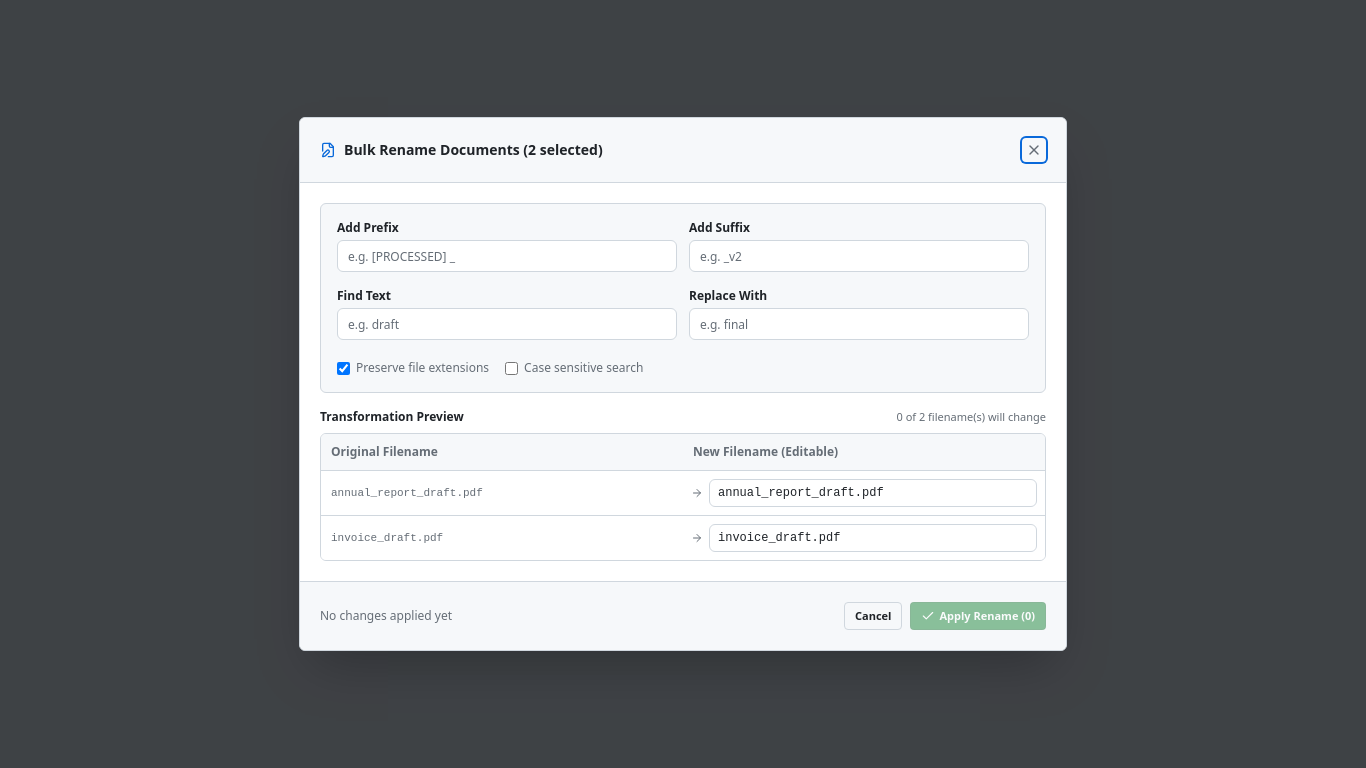
Test: BulkRenameModal › applies prefix and suffix while preserving file extension
Type "[2026] " into the field named "add prefix to filenames" at (507, 256), box [337,240,677,272]
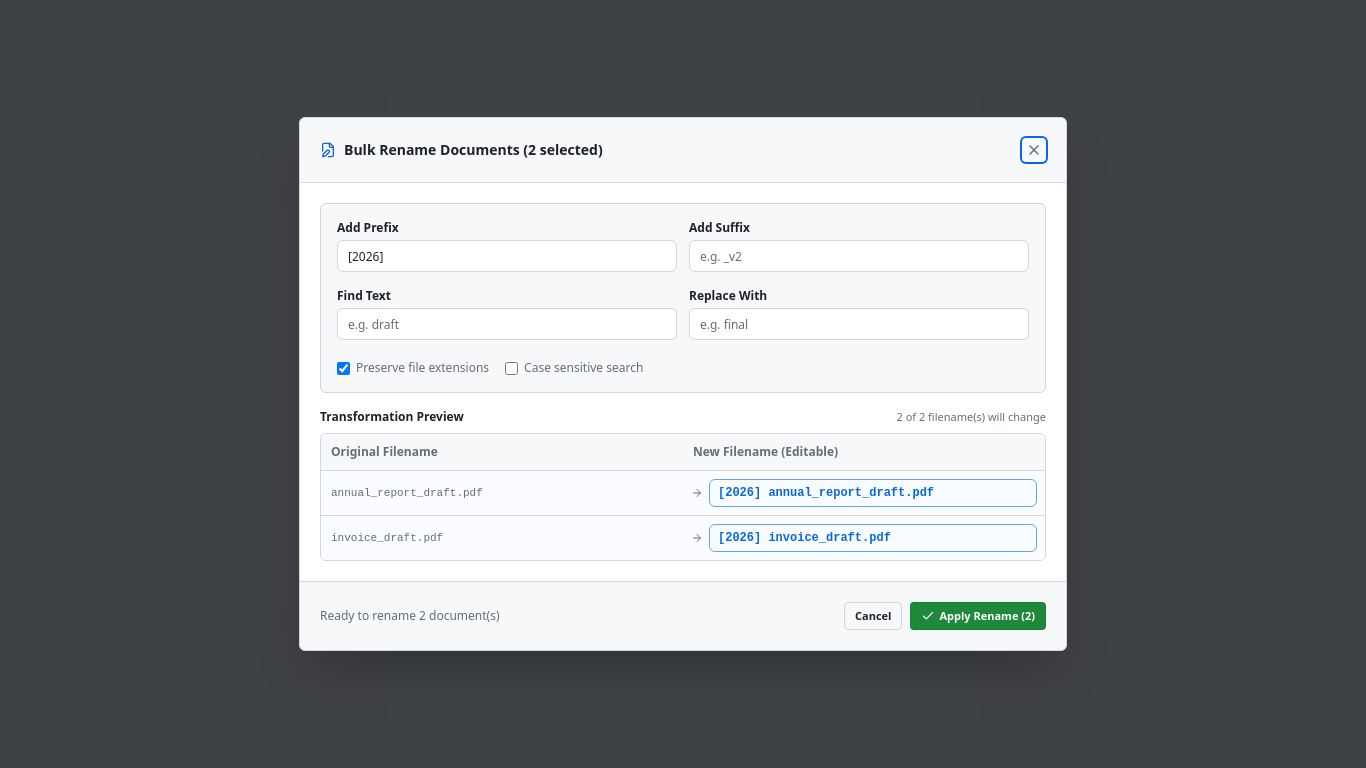
Type "_final" into the field named "add suffix to filenames" at (859, 256), box [689,240,1029,272]
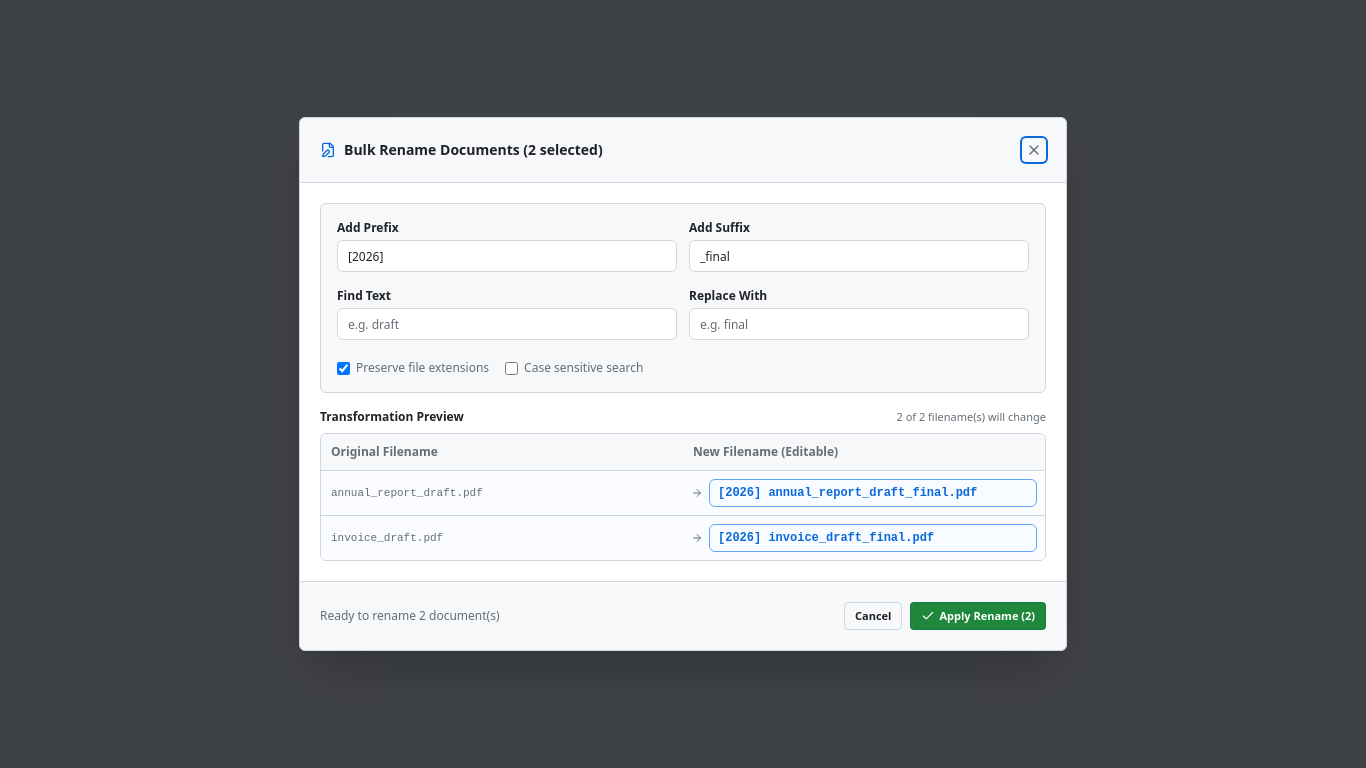
Now the text "2 of 2 filename(s) will change" is shown, box [896,409,1046,425]
Now the field named "new filename for annual_report_draft.pdf" holds "[2026] annual_report_draft_final.pdf", box [709,479,1037,507]
Now the field named "new filename for invoice_draft.pdf" holds "[2026] invoice_draft_final.pdf", box [709,524,1037,552]
